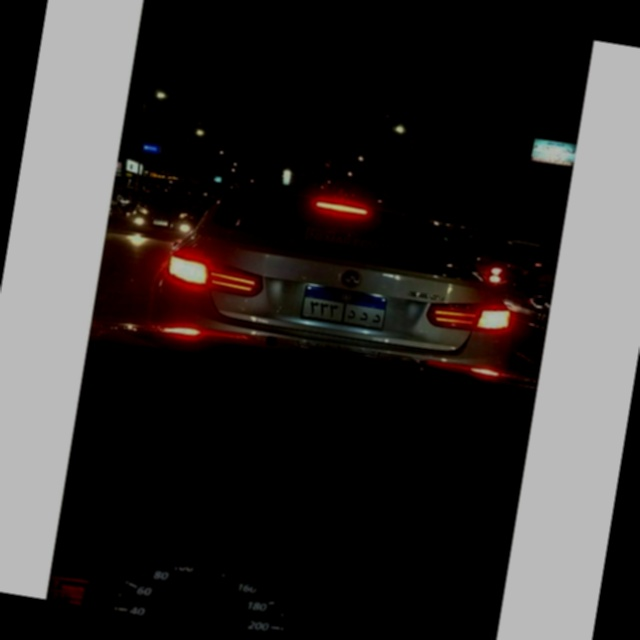License Plate: (298, 281, 392, 332)
